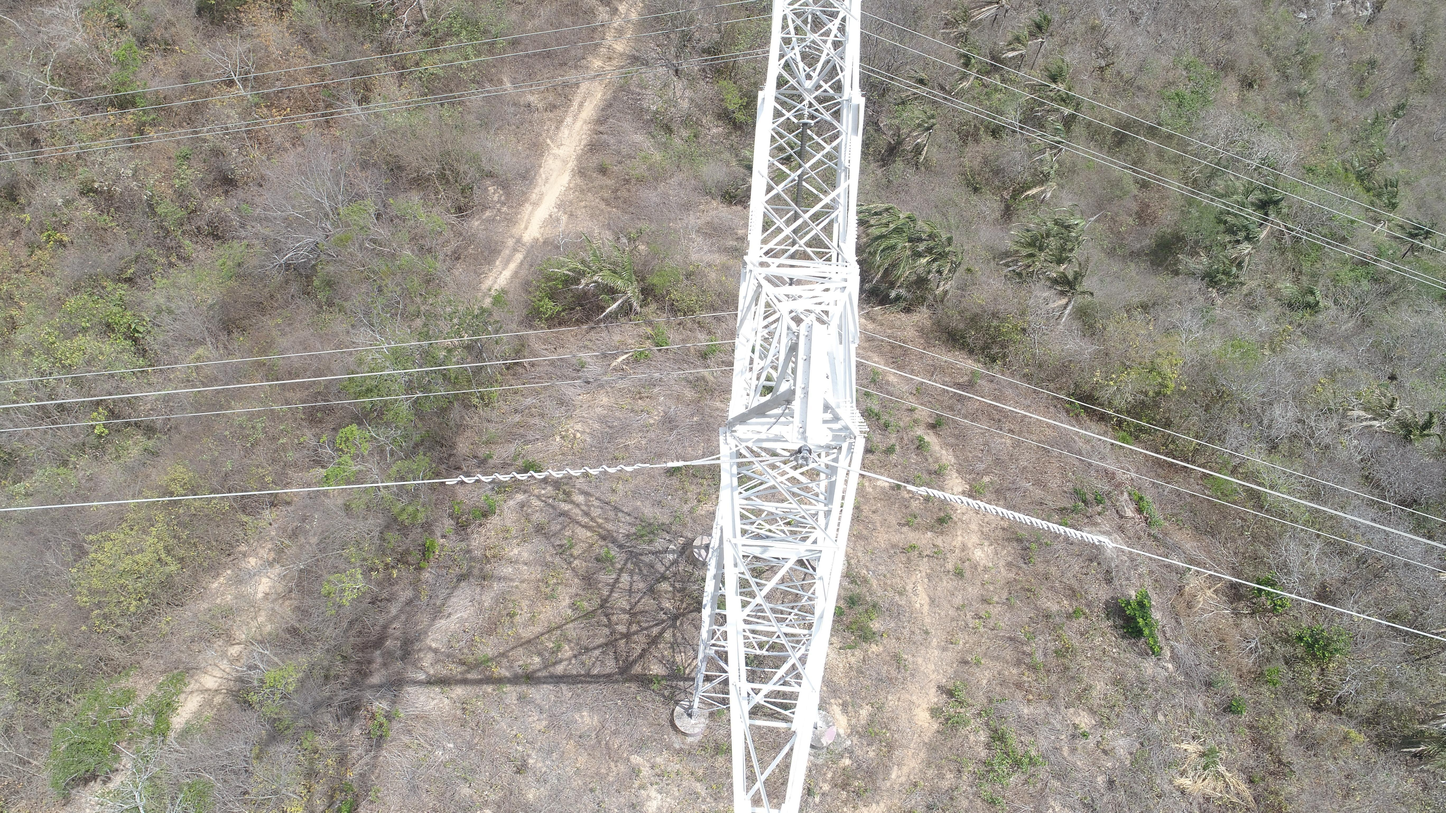power_tower: (677, 0, 870, 812)
